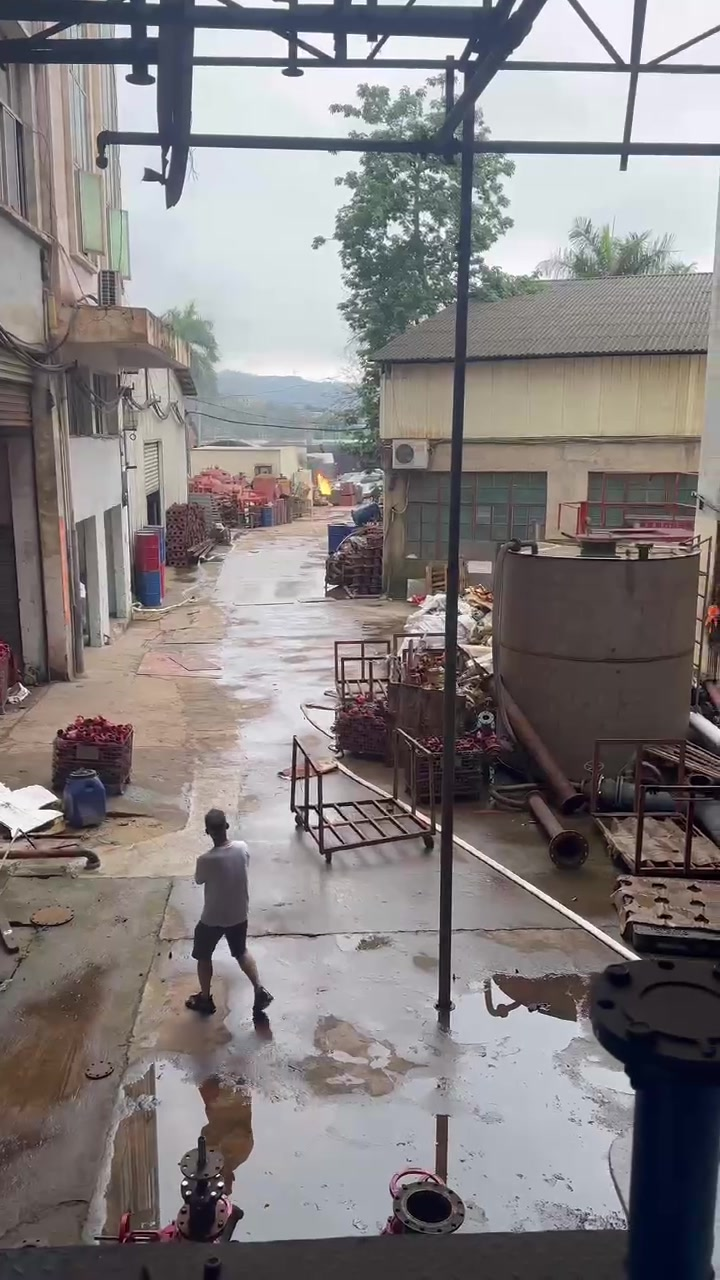fire: (317, 471, 330, 495)
